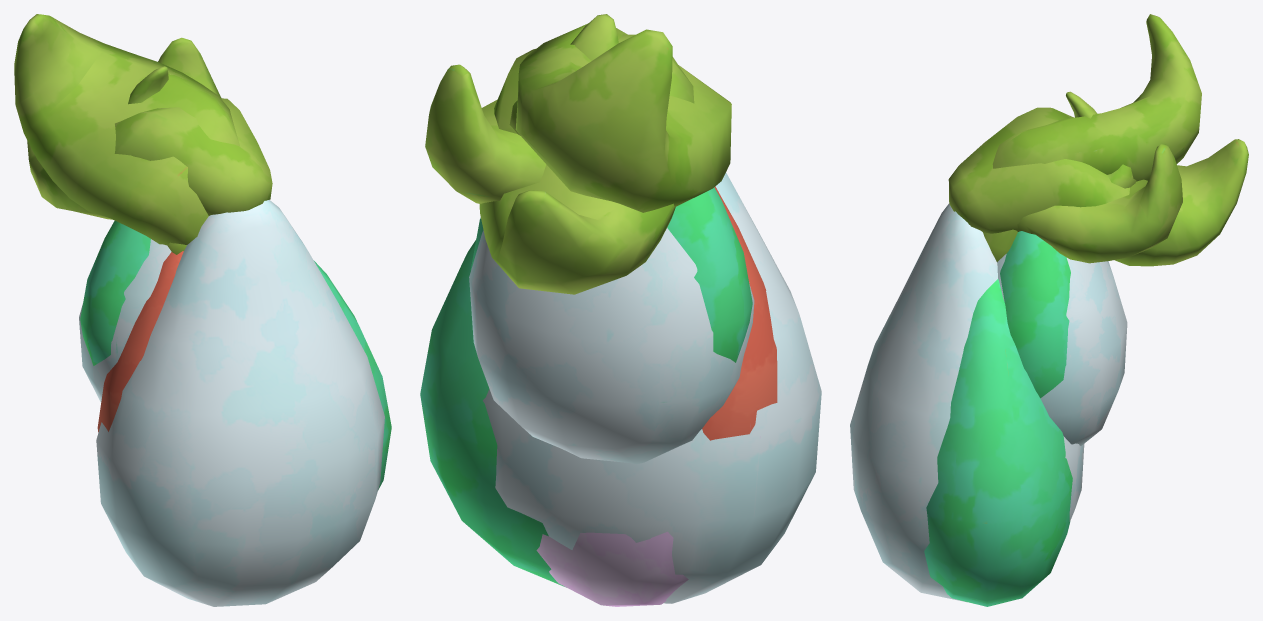
The model's file is Graines.fbx.
The picture shows the model from 3 angles, left to right: view 1: azimuth 30°, elevation 25°; view 2: azimuth 150°, elevation 25°; view 3: azimuth 270°, elevation 25°; orthographic projection. The views are drawn at different scales.
Visible parts, largest first — view 1: Graine 3.002, Graine 1.003, Graine 1.004, Graine 2.002, Graine 3.003, Graine 5.002; view 2: Graine 3.002, Graine 1.003, Graine 3.003, Graine 2.002, Graine 5.002, Graine 1.004; view 3: Graine 3.002, Graine 1.003, Graine 3.003, Graine 2.002, Graine 1.004.
Boxes of the visible parts, <box> form: Graine 3.002: <box>27,98,384,606</box>; Graine 1.003: <box>14,14,391,489</box>; Graine 1.004: <box>80,221,150,365</box>; Graine 2.002: <box>97,37,221,432</box>; Graine 3.003: <box>79,239,171,402</box>; Graine 5.002: <box>128,66,168,104</box>; Graine 3.002: <box>479,34,821,603</box>; Graine 1.003: <box>420,23,731,587</box>; Graine 3.003: <box>469,228,754,464</box>; Graine 2.002: <box>425,64,777,440</box>; Graine 5.002: <box>536,14,688,606</box>; Graine 1.004: <box>470,187,752,362</box>; Graine 3.002: <box>850,107,1248,602</box>; Graine 1.003: <box>924,14,1201,606</box>; Graine 3.003: <box>997,254,1127,445</box>; Graine 2.002: <box>1016,144,1182,263</box>; Graine 1.004: <box>1000,231,1070,398</box>.
Size of the model in its own units: 229 by 416 by 289.
